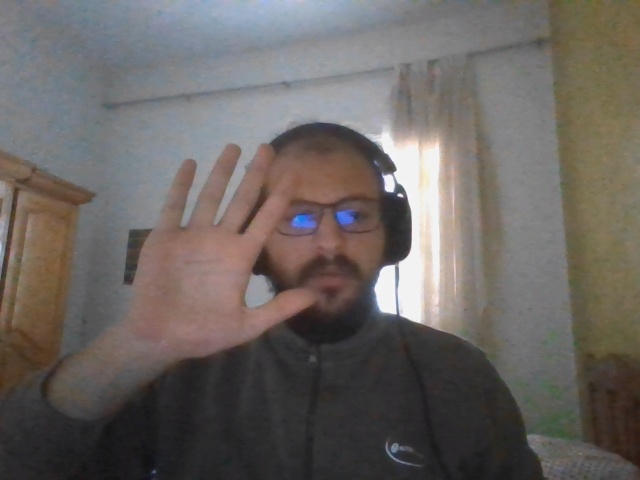Hello: (128, 143, 316, 363)
